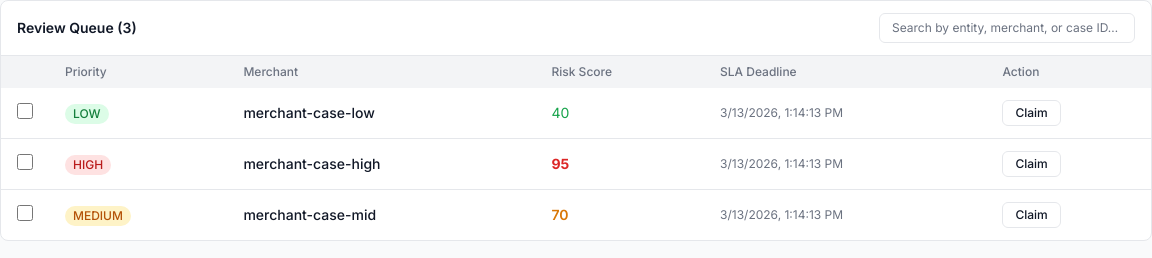
CaseReviewQueue › search functionality › typing a partial query fetches filtered results and displays them
// Type a query
Type "match" into the field with test id "case-search-input" at [1007, 28], box [879,13,1135,43]
Wait 350 ms
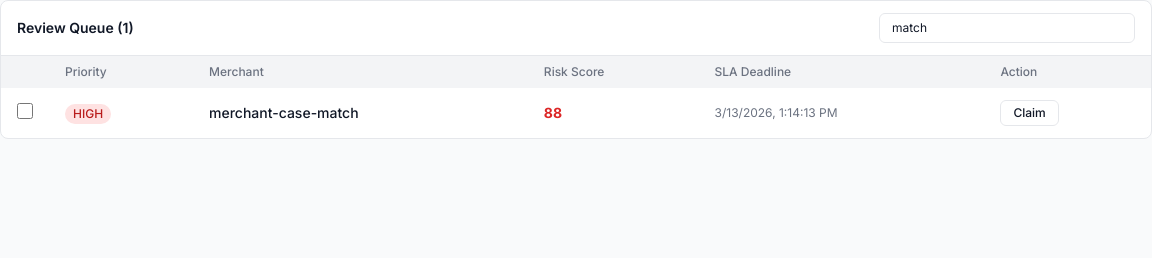
Check: the text "merchant-case-match" is shown, box [193,88,528,138]
Check: the text "merchant-case-high" is gone
